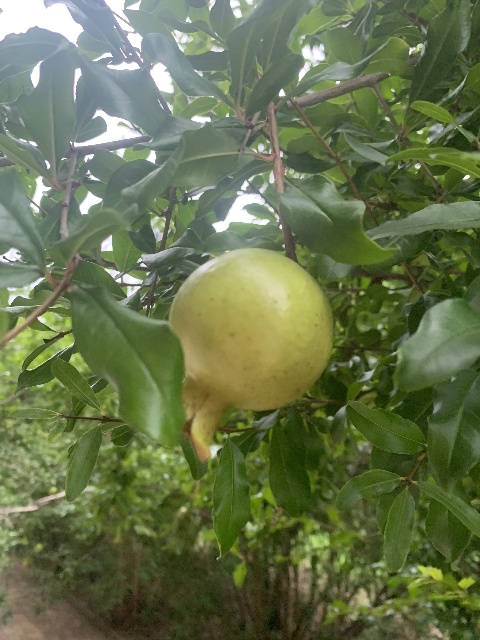mid-growth: (166, 248, 334, 462)
